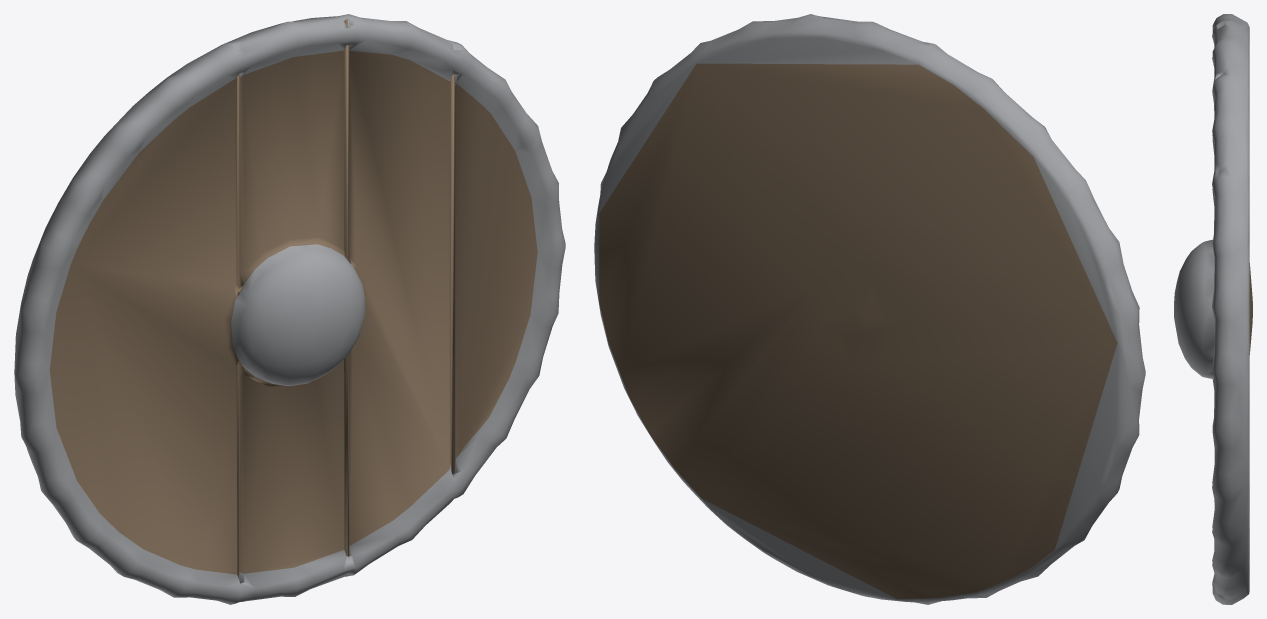
Rendered from Shield.fbx.
3 views of the same model, side by side, from view 1: azimuth 30°, elevation 25°; view 2: azimuth 150°, elevation 25°; view 3: azimuth 270°, elevation 25° (orthographic). The views are drawn at different scales.
Parts seen in each view (by area): view 1: Shield; view 2: Shield; view 3: Shield.
Part boxes in pixels (x1,y1,x2,y2): Shield: (14, 14, 565, 604); Shield: (594, 14, 1145, 604); Shield: (1174, 14, 1252, 604).
Size of the model in its own units: 30.8 by 30.79 by 4.1.
